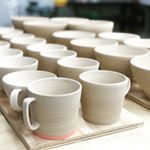cups: (21, 75, 83, 144), (78, 69, 133, 127), (1, 69, 61, 115)
